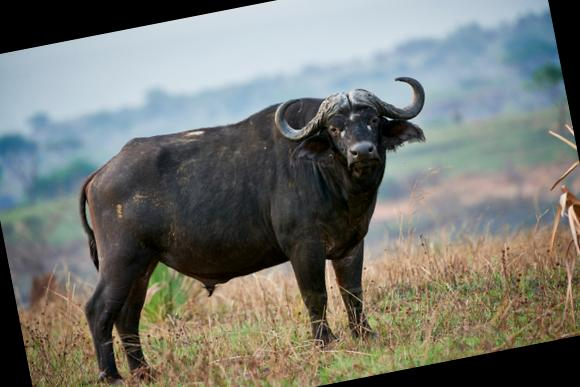Buffalo: (10, 0, 510, 385)
